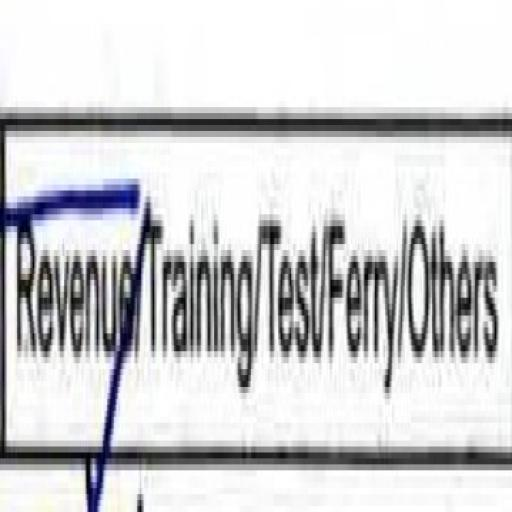check: (0, 15, 148, 512)
